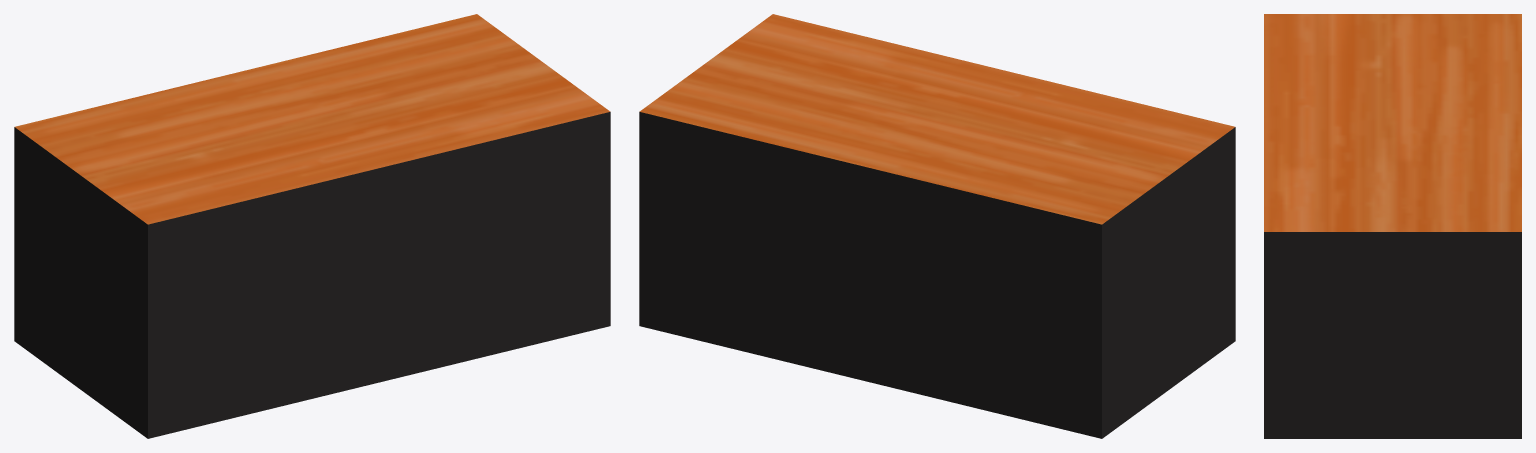
Rendered from Display_Table.fbx.
3 views of the same model, side by side, from view 1: azimuth 30°, elevation 25°; view 2: azimuth 150°, elevation 25°; view 3: azimuth 270°, elevation 25° (orthographic). The views are drawn at different scales.
Visible parts, largest first — view 1: Display_Table_1; view 2: Display_Table_1; view 3: Display_Table_1.
Part boxes in pixels (x1,y1,x2,y2): Display_Table_1: [14, 14, 610, 438]; Display_Table_1: [639, 14, 1235, 438]; Display_Table_1: [1264, 14, 1521, 438].
Bounding box in the file's own units: 200 × 88.54 × 100.
